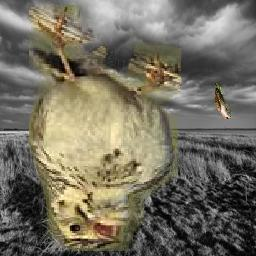Cuckoo: (213, 83, 231, 119)
Sparrow: (29, 5, 181, 251)
